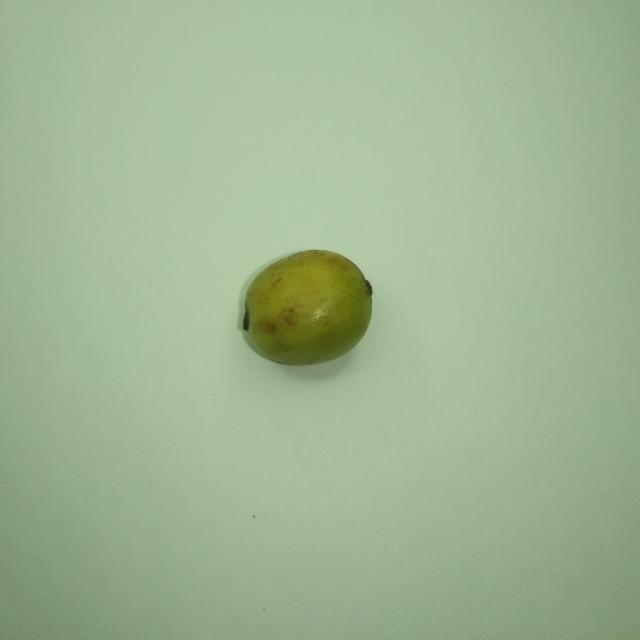Sano: (241, 250, 372, 365)
